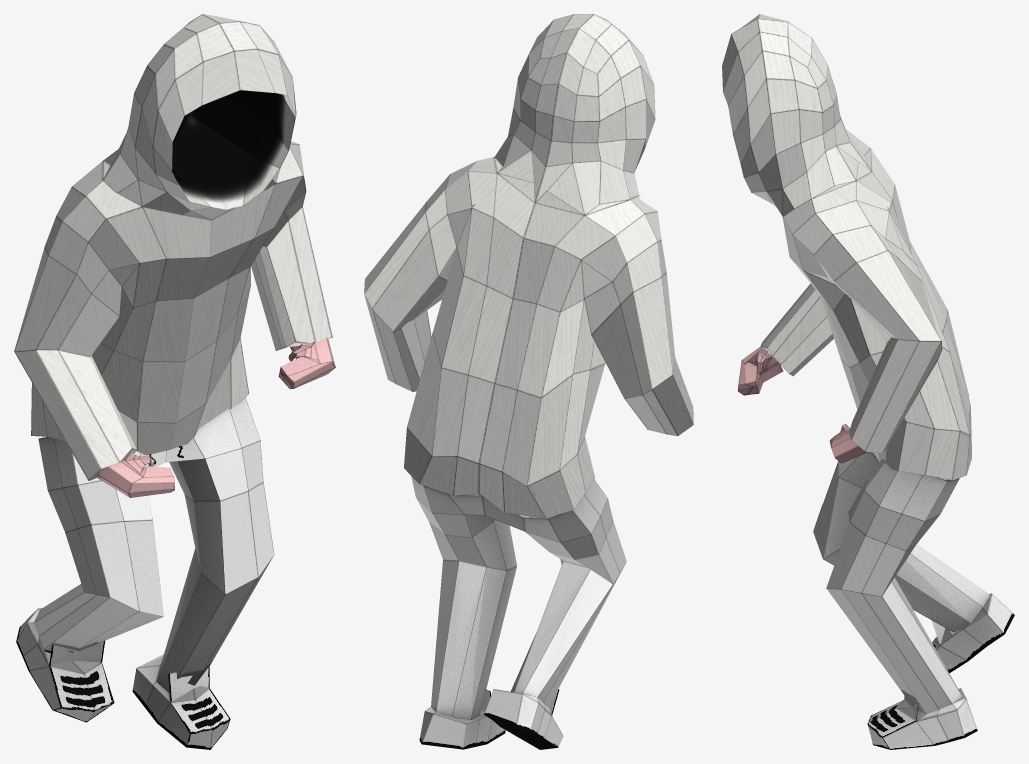
Rendered from Shadowmanv_000022.obj.
3 renders of one model, left to right at view 1: azimuth 30°, elevation 25°; view 2: azimuth 150°, elevation 25°; view 3: azimuth 270°, elevation 25°, orthographic. The views are drawn at different scales.
Parts seen in each view (by area): view 1: Cube.000; view 2: Cube.000; view 3: Cube.000.
Part boxes in pixels (x1=…): Cube.000: x1=14, y1=14, x2=335, y2=749; Cube.000: x1=364, y1=14, x2=693, y2=749; Cube.000: x1=722, y1=14, x2=1014, y2=749.
Bounding box in the file's own units: 4.74 × 11.09 × 4.19.
